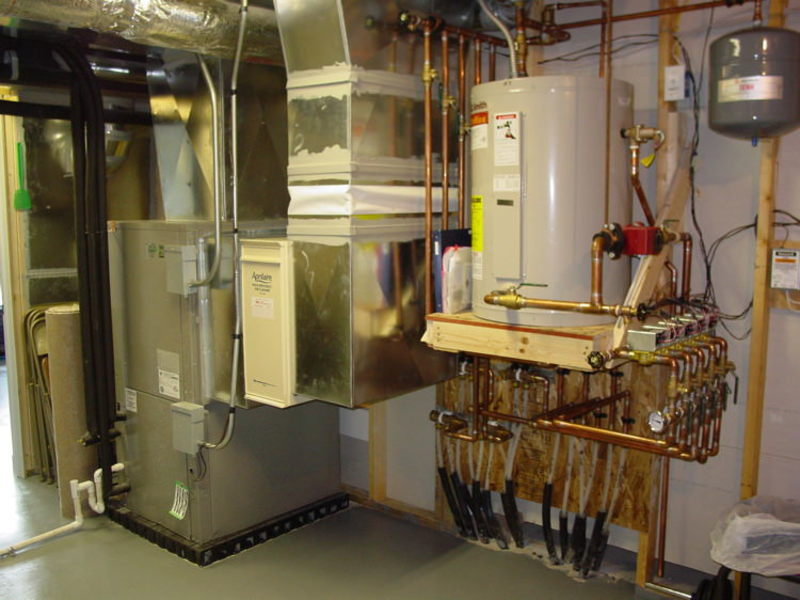valve: (475, 277, 548, 312), (719, 355, 748, 417)
